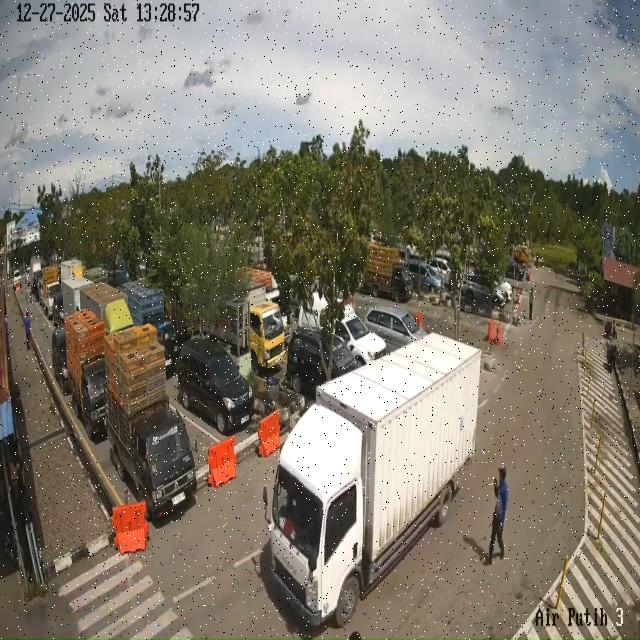Golongan IVA: (177, 338, 254, 435), (298, 292, 387, 365), (286, 327, 362, 394), (364, 306, 427, 351), (463, 274, 506, 307), (51, 325, 70, 395), (407, 260, 443, 294)
Golongan IVB: (111, 395, 199, 533), (64, 353, 121, 442), (363, 242, 413, 304)
Golongan VB: (263, 333, 481, 626)
